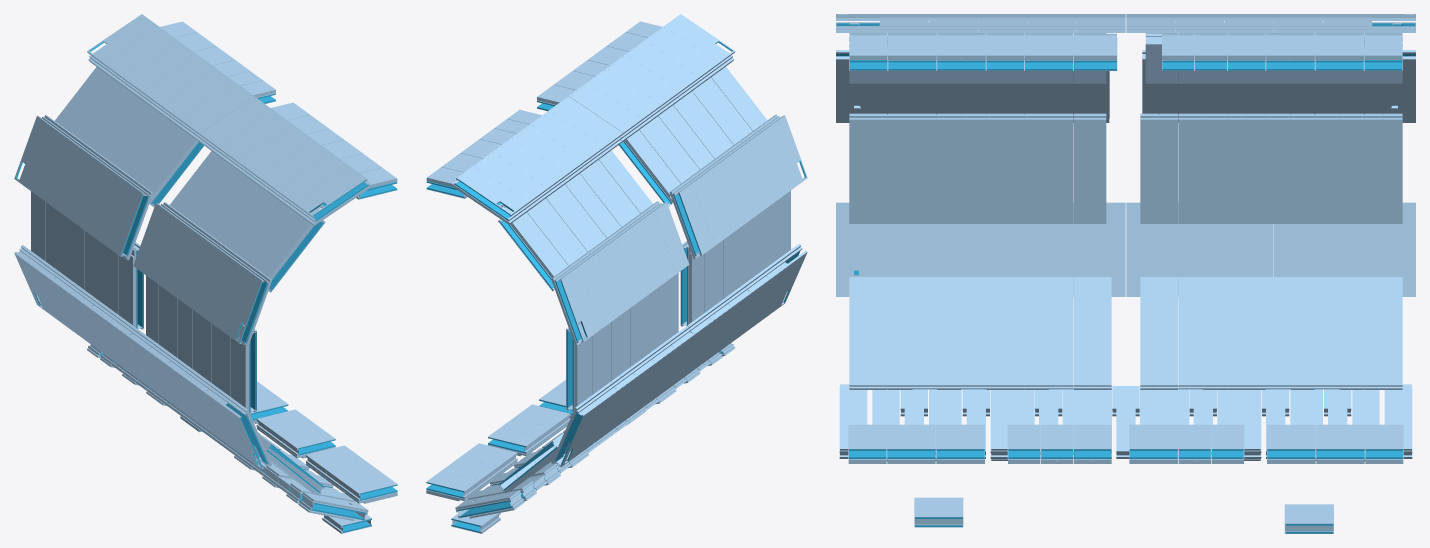
File: Muon-Barrel-Outer-cut2.glb
The picture shows the model from 3 angles, left to right: view 1: azimuth 30°, elevation 25°; view 2: azimuth 150°, elevation 25°; view 3: azimuth 270°, elevation 25°; orthographic projection. The views are drawn at different scales.
Parts seen in each view (by area): view 1: null; view 2: null; view 3: null.
Boxes of the visible parts, box(x1,y1,x2,y2) form: null: box(14, 14, 397, 533); null: box(426, 14, 807, 533); null: box(836, 14, 1415, 533).
Bounding box in the file's own units: 10.88 × 24.1 × 25.69.
